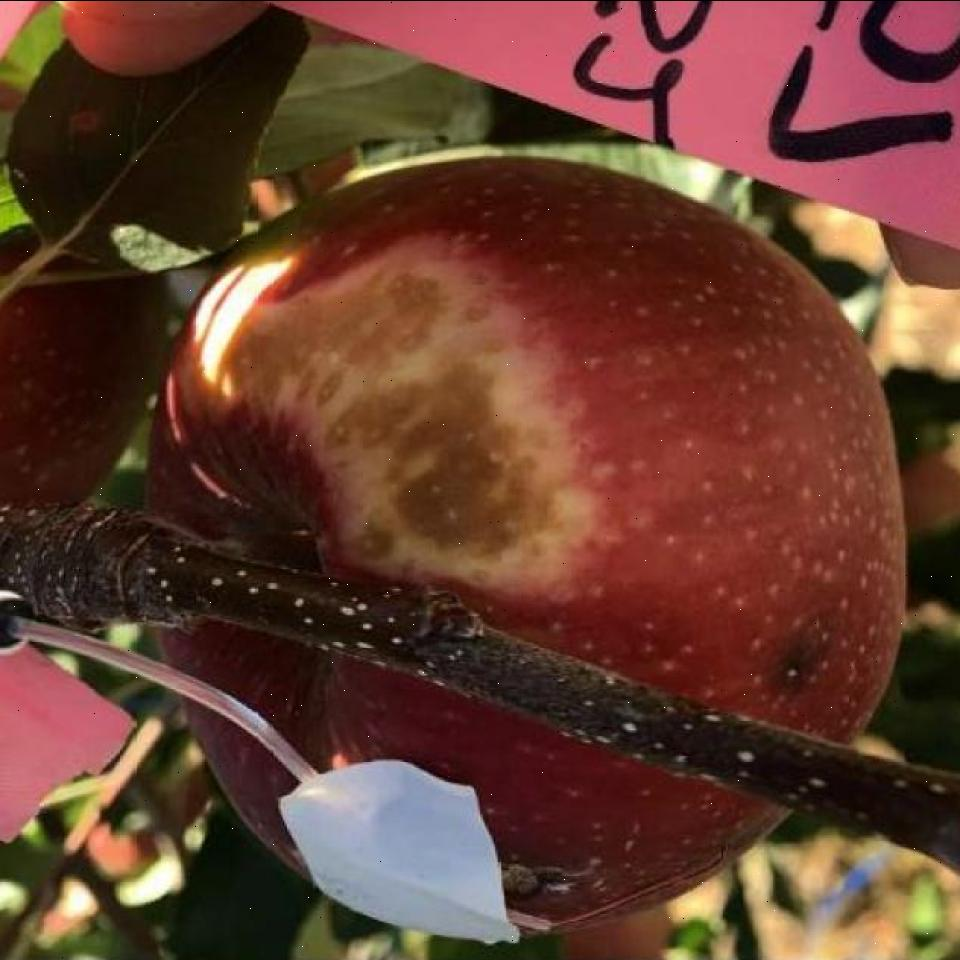Sunscald: (211, 245, 617, 597)
